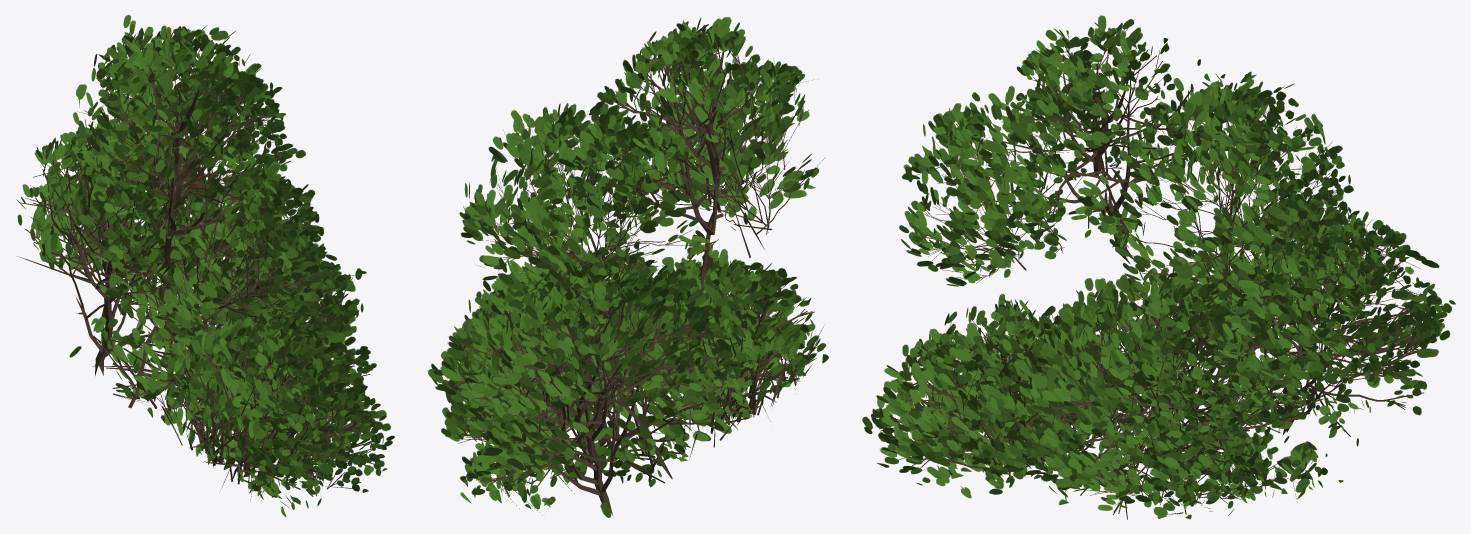
3 views of the same model, side by side, from view 1: azimuth 30°, elevation 25°; view 2: azimuth 150°, elevation 25°; view 3: azimuth 270°, elevation 25° (orthographic). The views are drawn at different scales.
Visible parts, largest first — view 1: oak 01.001_trunk_Mat.001_0.378; view 2: oak 01.001_trunk_Mat.001_0.378; view 3: oak 01.001_trunk_Mat.001_0.378.
Boxes of the visible parts, x1,y1,x2,y2 form: oak 01.001_trunk_Mat.001_0.378: (16, 14, 394, 517); oak 01.001_trunk_Mat.001_0.378: (427, 17, 828, 517); oak 01.001_trunk_Mat.001_0.378: (862, 15, 1455, 519).
Size of the model in its own units: 1.84 by 3.09 by 3.86.
Materials: 2 (1 with a texture image).
